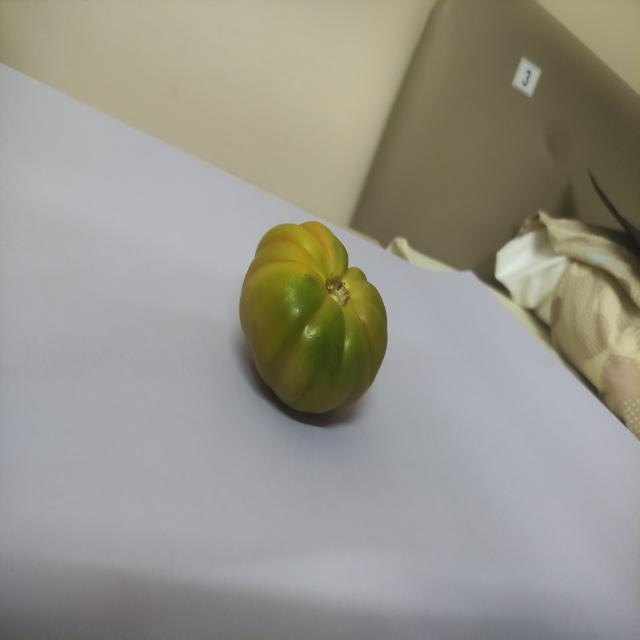yesil: (226, 206, 410, 428)
